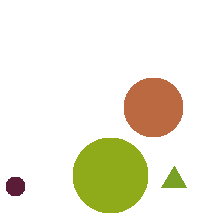circle: (73, 138, 147, 212), (124, 78, 182, 136), (6, 177, 24, 195)
triangle: (161, 166, 186, 187)
